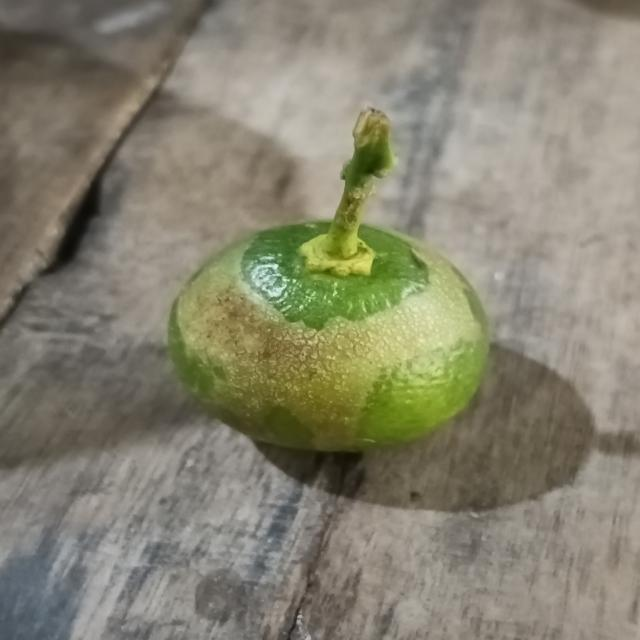thrips: (170, 216, 500, 456)
